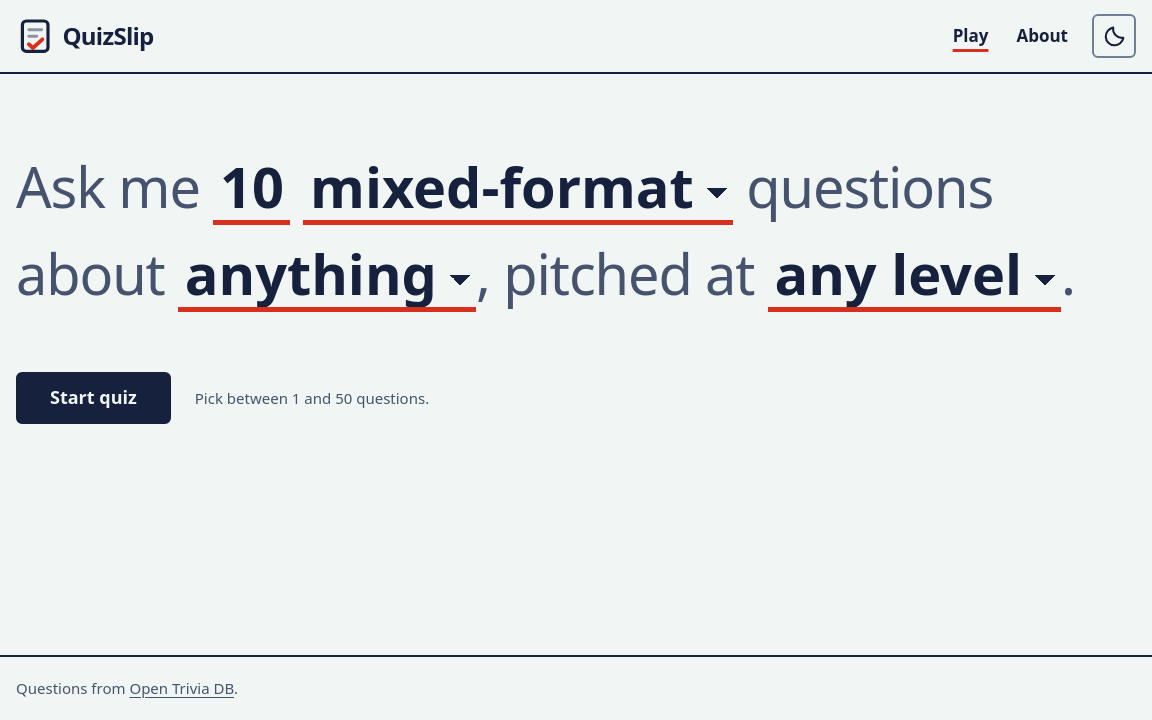
Test: app shell › navigates with the header links
Step 1. Click the link "About" → {"x": 1042, "y": 35}, box [1016, 24, 1068, 47]
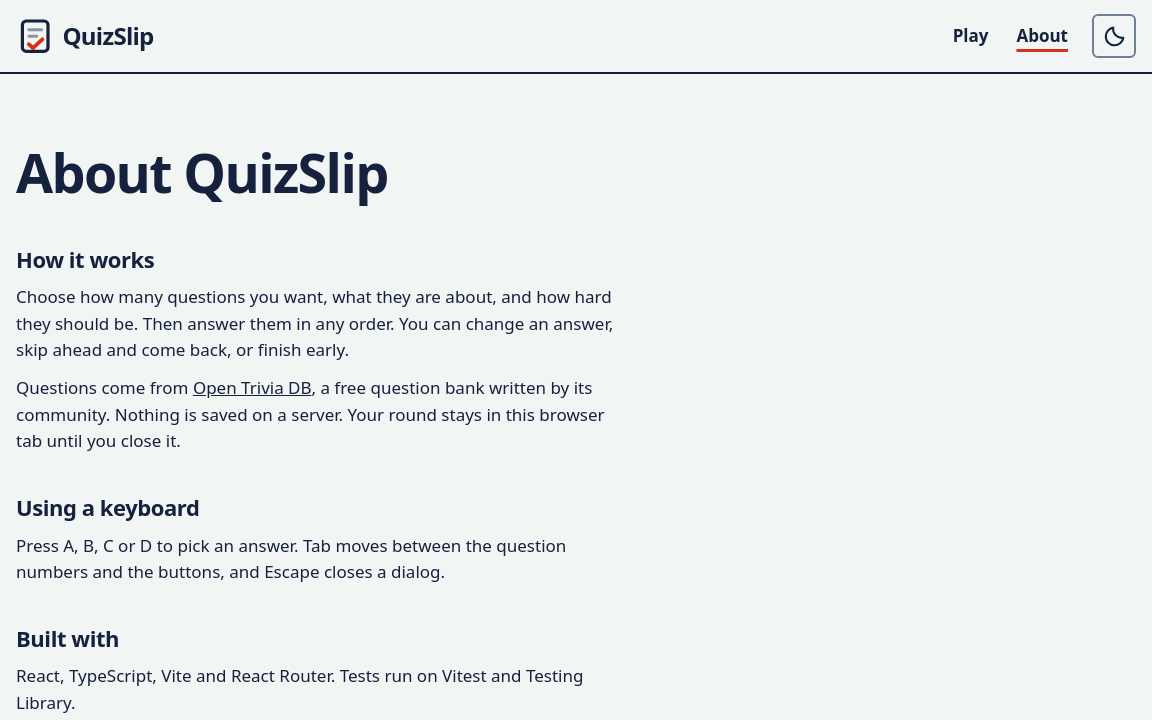
Result: the heading "About QuizSlip" is shown at [16, 136, 388, 209]
